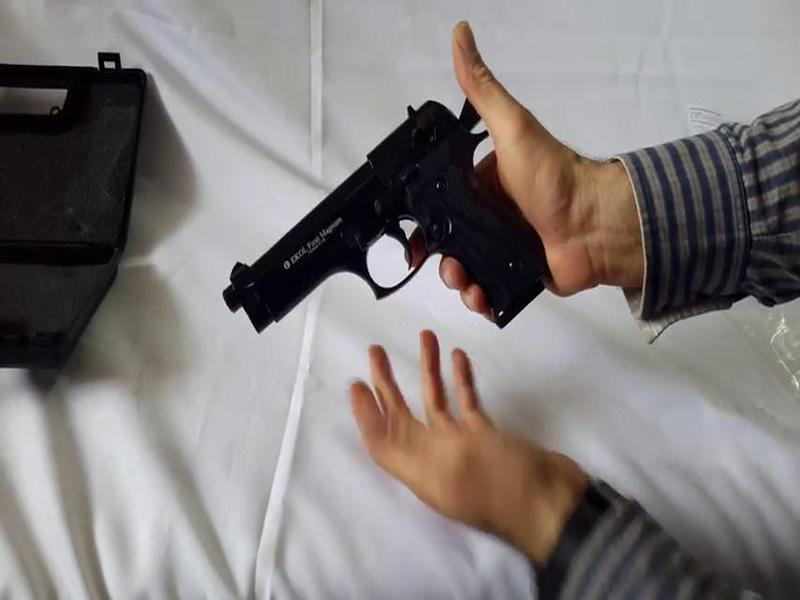Pistola: (220, 84, 561, 370)
